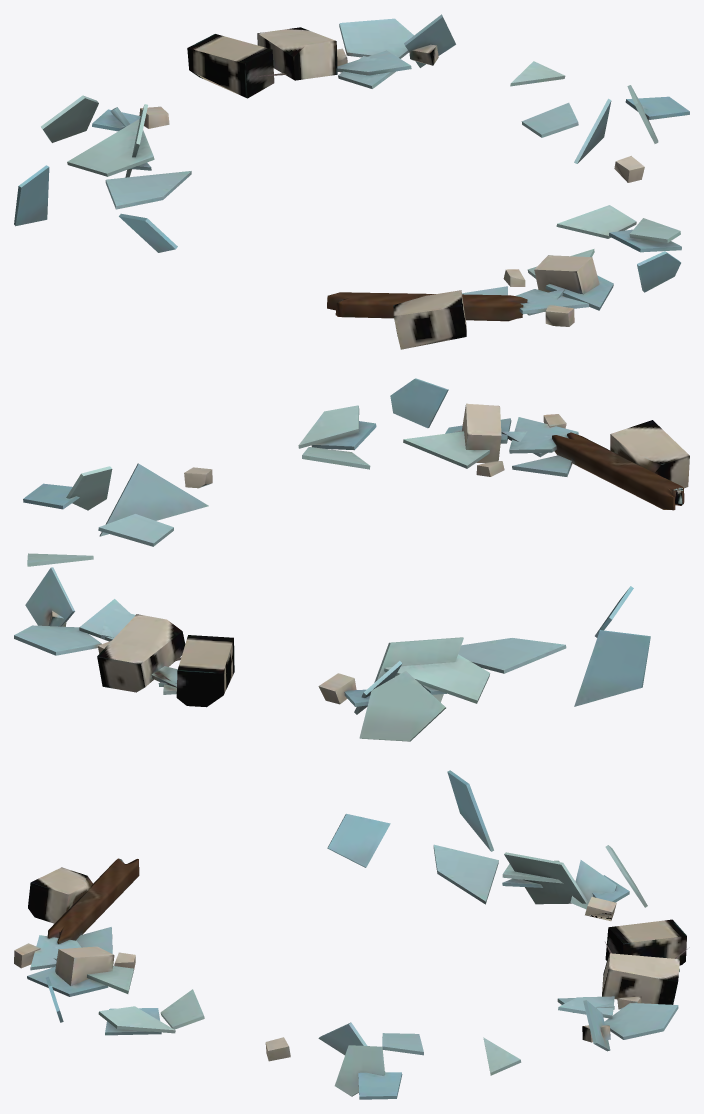
File: rough-glass-3.low.glb
3 renders of one model, top to bottom at view 1: azimuth 30°, elevation 25°; view 2: azimuth 150°, elevation 25°; view 3: azimuth 270°, elevation 25°, orthographic. The views are drawn at different scales.
Parts seen in each view (by area): view 1: rough-glass-3; view 2: rough-glass-3; view 3: rough-glass-3.
Boxes of the visible parts, x1,y1,x2,y2 form: rough-glass-3: (14,14,689,349); rough-glass-3: (14,378,689,741); rough-glass-3: (14,770,689,1099).
Size of the model in its own units: 1.54 by 0.1662 by 1.53.
1 material, 1 textured.
